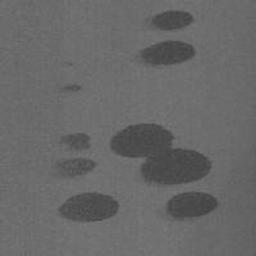Oil spot: (108, 122, 221, 223), (46, 131, 99, 183), (54, 191, 122, 224), (132, 38, 198, 69), (140, 9, 196, 32), (59, 82, 83, 92)
